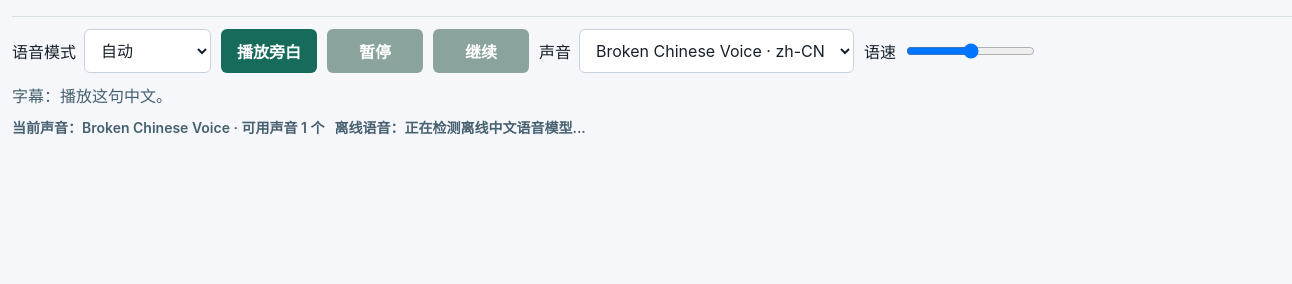
it: SpeechControls › retries with the default browser voice when the selected voice fails
Step 1. Click the button "播放旁白" → (269, 51), box [221,29,317,73]
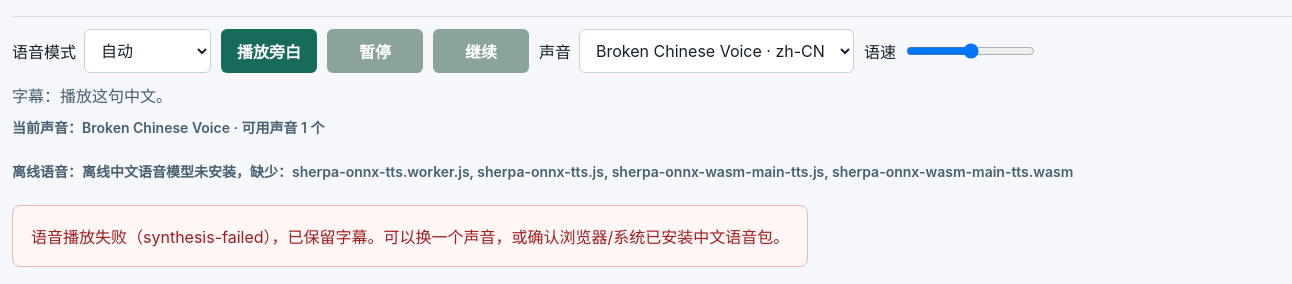
Expected: the text "synthesis-failed" is shown, [31,227,789,247]
Expected: the text "中文语音包" is shown, [31,227,789,247]
